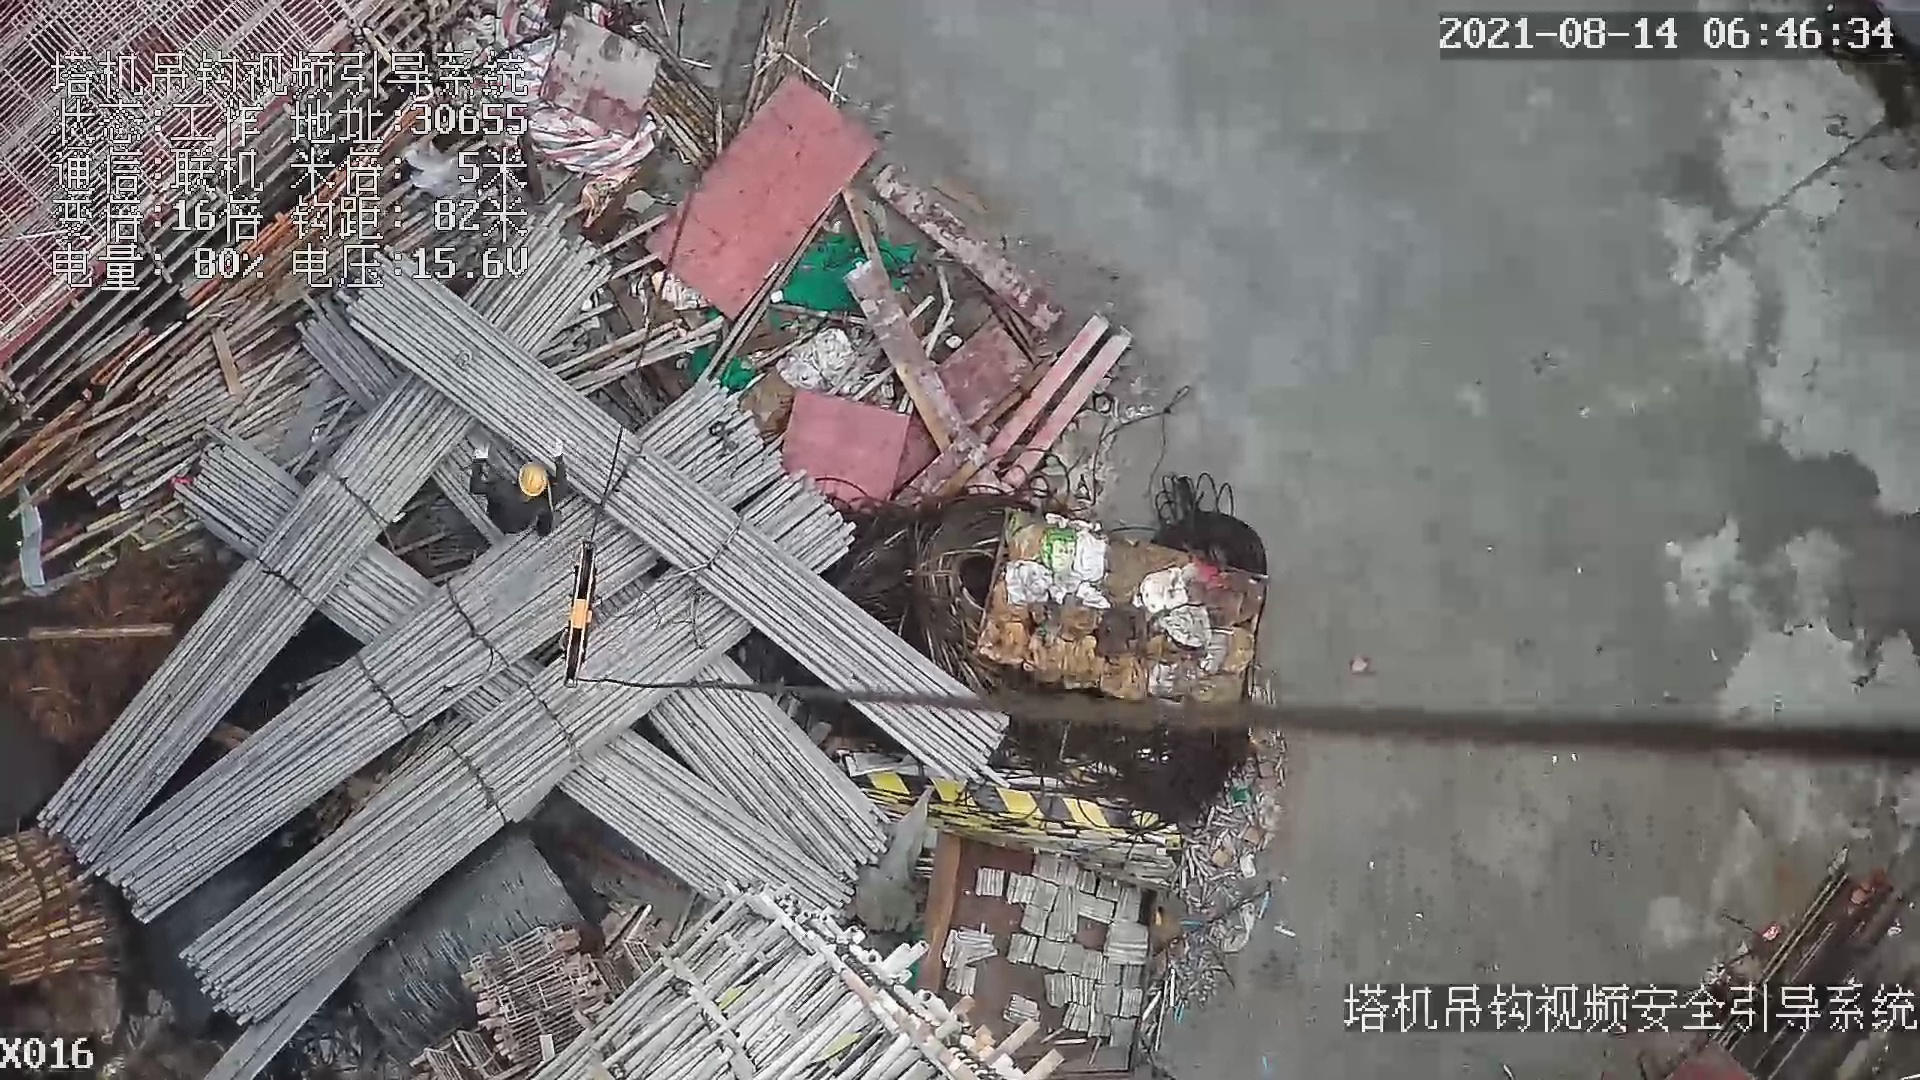board: (638, 67, 882, 323)
helmet: (518, 461, 552, 497)
hook: (555, 537, 613, 694)
person: (462, 432, 568, 542)
scaffold: (1, 828, 121, 995)
